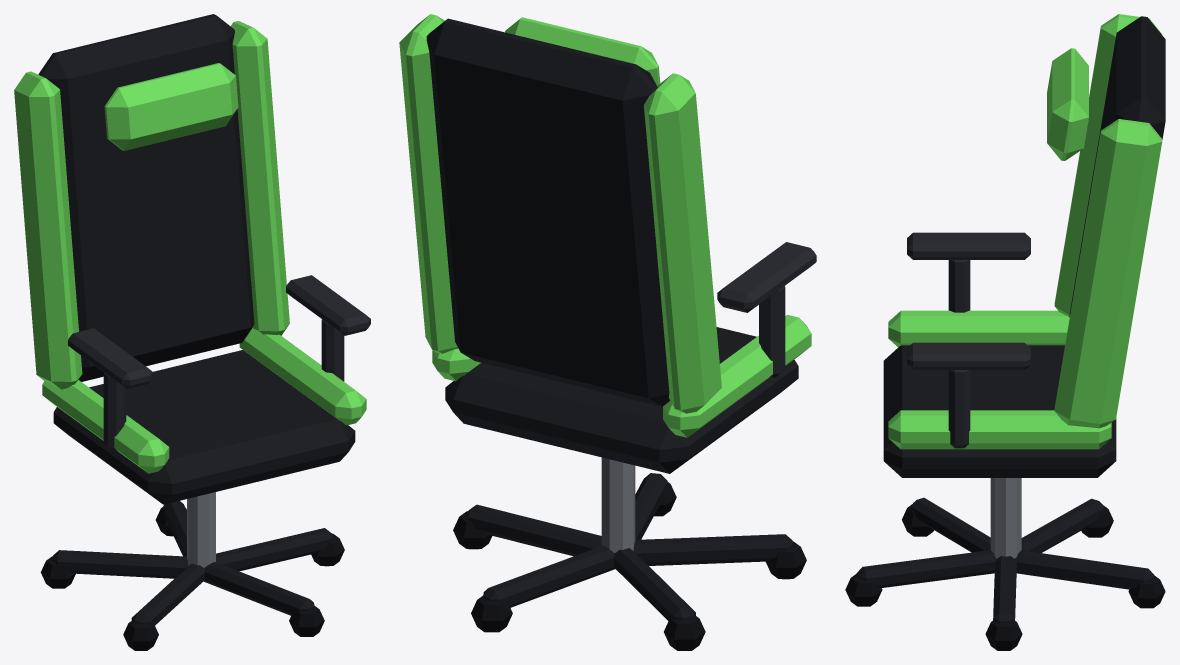
The model's file is gaming_chair.glb.
The picture shows the model from 3 angles, left to right: view 1: azimuth 30°, elevation 25°; view 2: azimuth 150°, elevation 25°; view 3: azimuth 270°, elevation 25°; orthographic projection. The views are drawn at different scales.
Parts seen in each view (by area): view 1: body; view 2: body; view 3: body.
Part boxes in pixels (bbox=[...]): body: bbox=[14, 14, 370, 650]; body: bbox=[399, 14, 816, 650]; body: bbox=[845, 14, 1165, 650].
Size of the model in its own units: 1.01 by 1.89 by 1.03.
